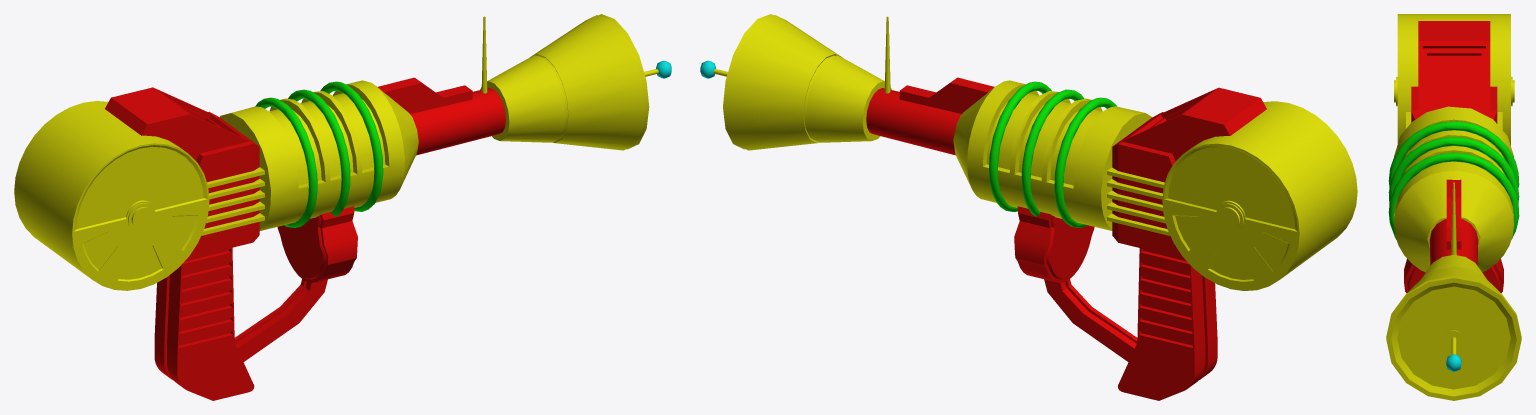
Rendered from Raygun.fbx.
3 views of the same model, side by side, from view 1: azimuth 30°, elevation 25°; view 2: azimuth 150°, elevation 25°; view 3: azimuth 270°, elevation 25° (orthographic). The views are drawn at different scales.
Visible parts, largest first — view 1: Cylinder.015; view 2: Cylinder.015; view 3: Cylinder.015.
Part boxes in pixels (x1,y1,x2,y2): Cylinder.015: (14,14,671,400); Cylinder.015: (700,14,1357,400); Cylinder.015: (1386,14,1521,400).
Bounding box in the file's own units: 0.695 × 0.3242 × 0.1329.
